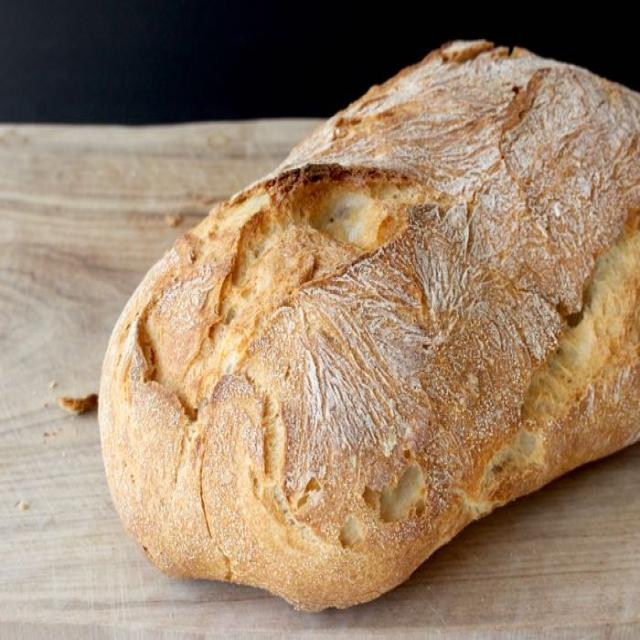Ciabatta: (100, 40, 639, 609)
